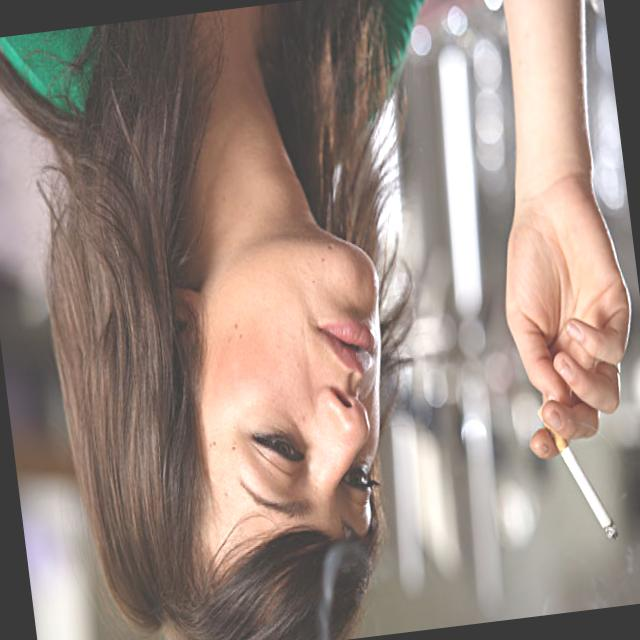cigarette: (556, 436, 622, 548)
